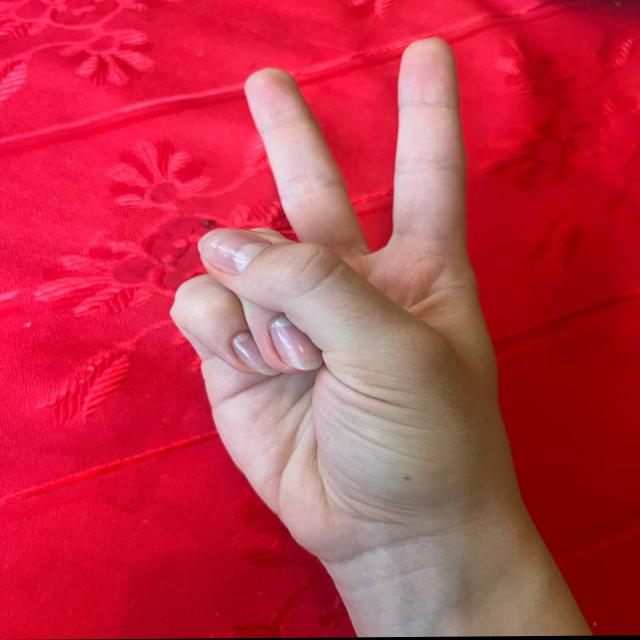k: (136, 43, 542, 521)
